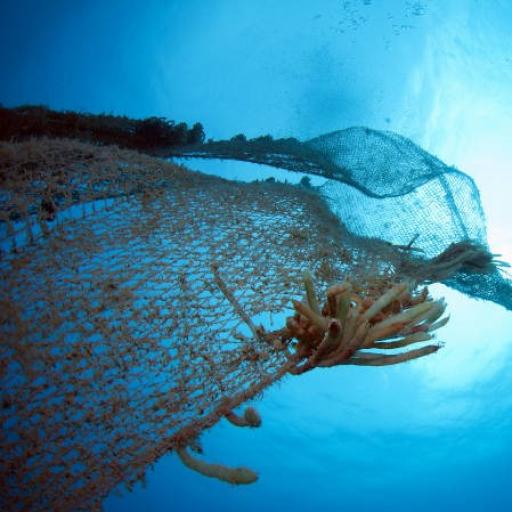net: (1, 104, 512, 512)
